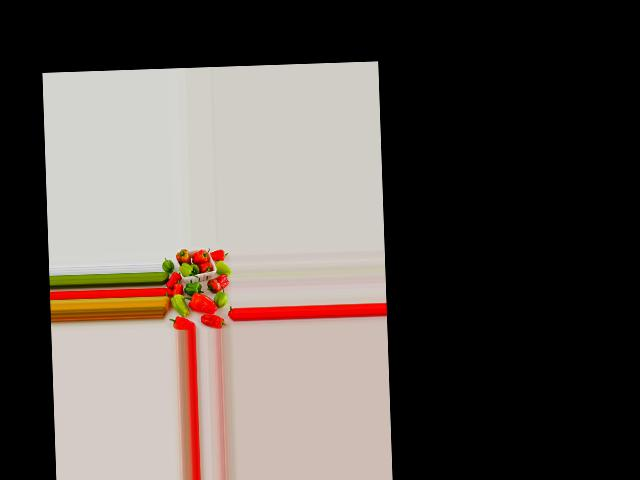bell_pepper: (168, 314, 192, 331)
